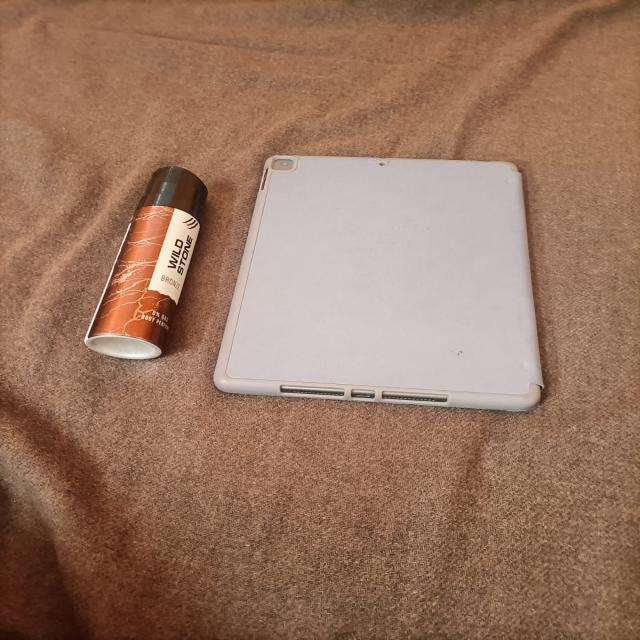spray: (71, 150, 212, 381)
tablet: (208, 148, 543, 429)
